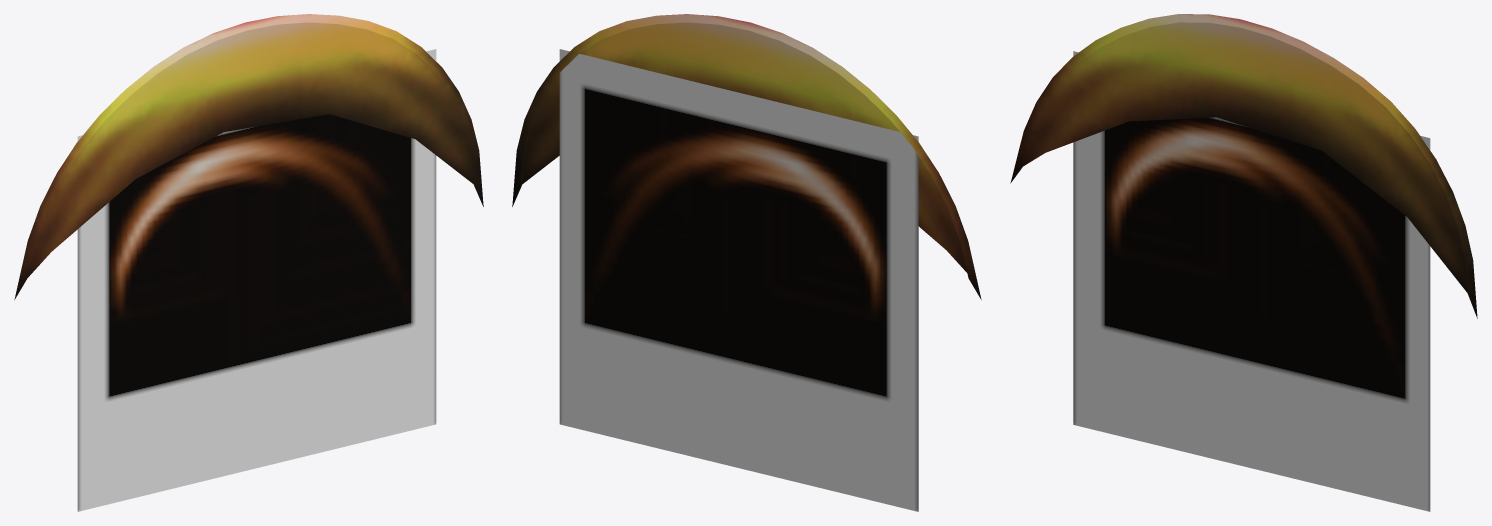
Rendered from particle_2009_skill_1.FBX.
The picture shows the model from 3 angles, left to right: view 1: azimuth 30°, elevation 25°; view 2: azimuth 150°, elevation 25°; view 3: azimuth 330°, elevation 25°; orthographic projection.
Parts seen in each view (by area): view 1: particle_2009_edge_2, particle_2009_edge_1; view 2: particle_2009_edge_2, particle_2009_edge_1; view 3: particle_2009_edge_2, particle_2009_edge_1.
Part boxes in pixels (bbox=[...]): particle_2009_edge_2: bbox=[77, 49, 436, 511]; particle_2009_edge_1: bbox=[14, 14, 483, 299]; particle_2009_edge_2: bbox=[559, 49, 918, 511]; particle_2009_edge_1: bbox=[512, 14, 981, 299]; particle_2009_edge_2: bbox=[1073, 51, 1430, 511]; particle_2009_edge_1: bbox=[1010, 14, 1477, 318].
Bounding box in the file's own units: 131 × 119 × 1.
1 material, 1 textured.
